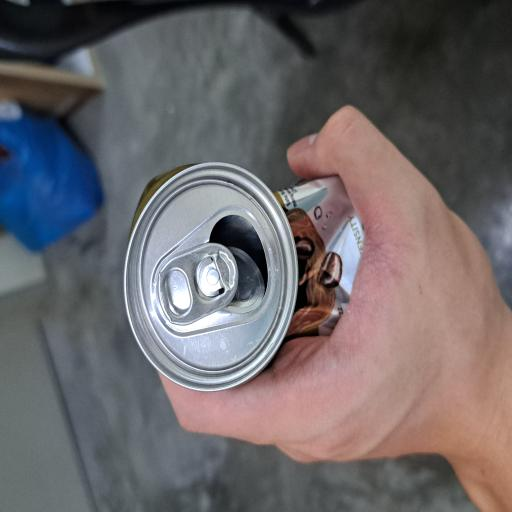can: (90, 166, 264, 485)
pop tab: (141, 209, 203, 318)
